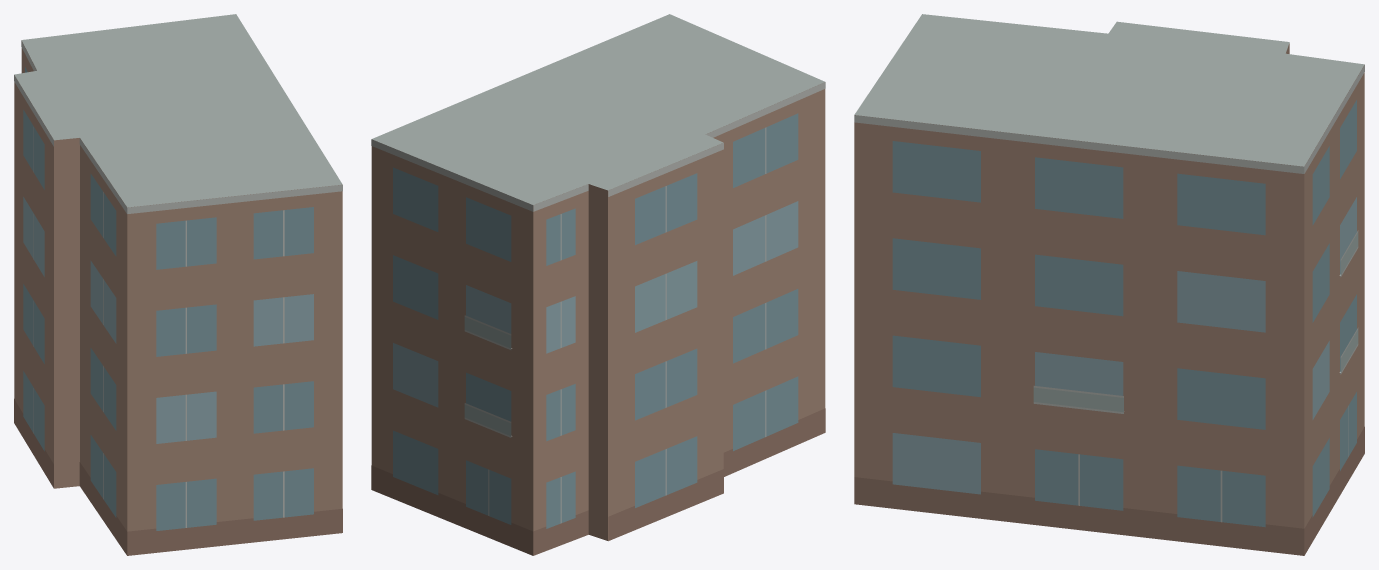
The model's file is survey-upis-32638492.glb.
3 views of the same model, side by side, from view 1: azimuth 30°, elevation 25°; view 2: azimuth 150°, elevation 25°; view 3: azimuth 270°, elevation 25° (orthographic). The views are drawn at different scales.
Visible parts, largest first — view 1: survey-upis-32638492.tmp; view 2: survey-upis-32638492.tmp; view 3: survey-upis-32638492.tmp.
Boxes of the visible parts, <box> form: survey-upis-32638492.tmp: <box>14,14,342,555</box>; survey-upis-32638492.tmp: <box>371,14,825,555</box>; survey-upis-32638492.tmp: <box>854,14,1364,555</box>.
Bounding box in the file's own units: 10.69 × 12.7 × 15.11.
